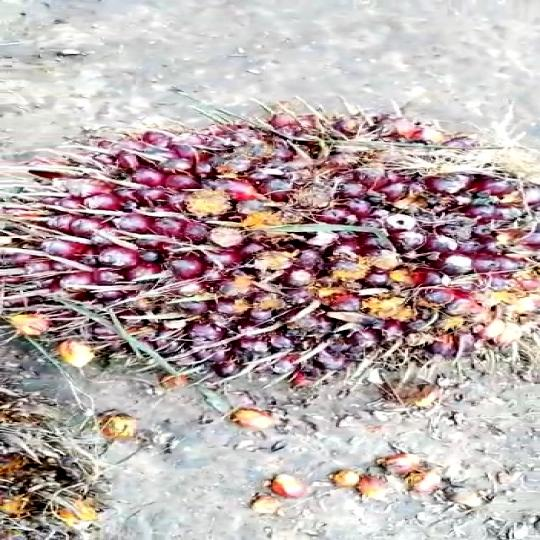masak: (0, 107, 540, 396)
